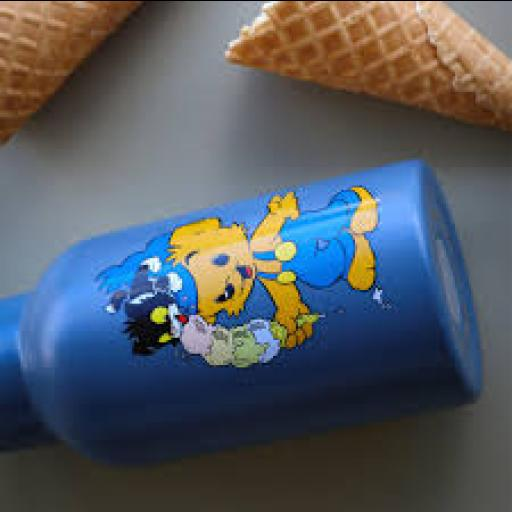blue-bottle: (0, 162, 480, 464)
